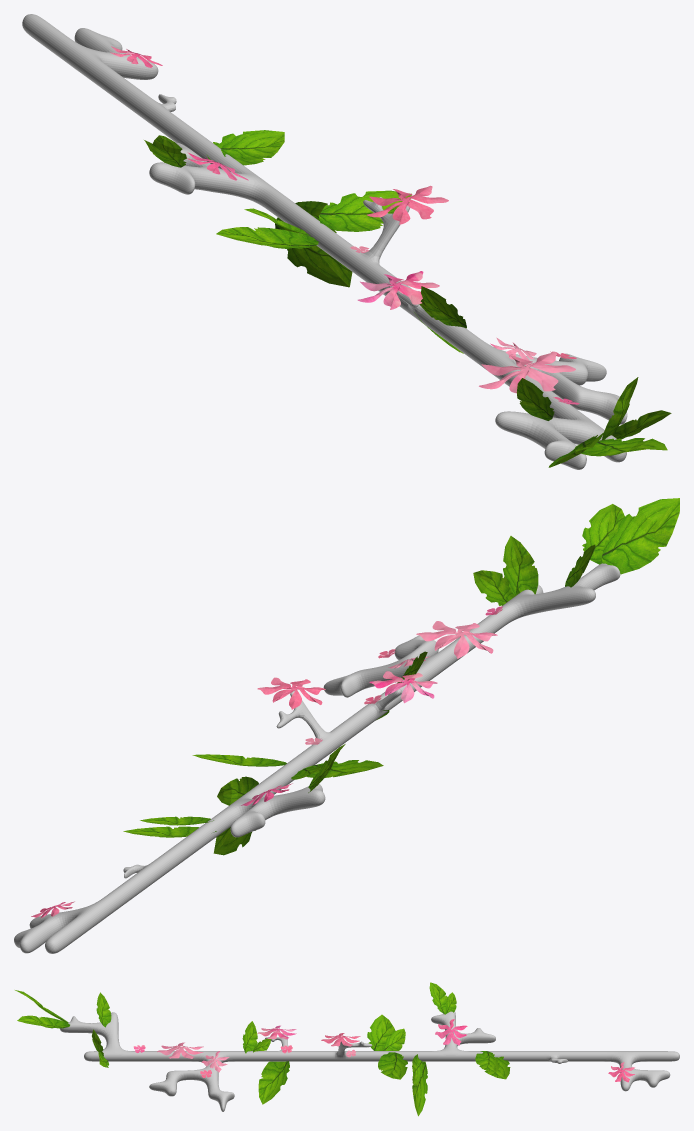
File: stickframe.fbx
3 views of the same model, one above another, from view 1: azimuth 30°, elevation 25°; view 2: azimuth 150°, elevation 25°; view 3: azimuth 270°, elevation 25° (orthographic). The views are drawn at different scales.
Parts seen in each view (by area): view 1: Cube, leaf.014, flower2.002, leaf.005, leaf, flower2, flower2.001, leaf.015, leaf.010, leaf.013, leaf.011, leaf.002 (+2 smaller); view 2: Cube, leaf.009, leaf.007, flower2.002, leaf.010, leaf.006, flower2.001, flower2, leaf.014, leaf, leaf.004; view 3: Cube, leaf.008, leaf, leaf.014, leaf.005, leaf.010, flower1, flower2.002, leaf.015, leaf.001, leaf.002, leaf.011 (+7 smaller).
Part boxes in pixels (box(x1,y1,x2,y2)): Cube: box(22, 14, 627, 469); leaf.014: box(318, 190, 411, 231); flower2.002: box(479, 351, 575, 393); leaf.005: box(275, 214, 352, 287); leaf: box(216, 227, 318, 248); flower2: box(367, 185, 448, 224); flower2.001: box(357, 271, 439, 309); leaf.015: box(221, 131, 283, 159); leaf.010: box(575, 438, 667, 456); leaf.013: box(516, 378, 554, 420); leaf.011: box(421, 286, 466, 328); leaf.002: box(152, 135, 186, 167); Cube: box(14, 563, 620, 953); leaf.009: box(601, 498, 679, 574); leaf.007: box(503, 536, 538, 595); flower2.002: box(416, 621, 497, 658); leaf.010: box(582, 504, 624, 564); leaf.006: box(473, 570, 519, 605); flower2.001: box(369, 671, 437, 703); flower2: box(257, 677, 325, 709); leaf.014: box(192, 754, 286, 766); leaf: box(303, 760, 383, 777); leaf.004: box(217, 776, 258, 805); Cube: box(60, 1011, 679, 1111); leaf.008: box(258, 1061, 289, 1104); leaf: box(367, 1014, 395, 1050); leaf.014: box(378, 1052, 407, 1079); leaf.005: box(412, 1061, 427, 1116); leaf.010: box(17, 1015, 69, 1028); flower1: box(435, 1019, 467, 1045); flower2.002: box(157, 1042, 203, 1058); leaf.015: box(475, 1051, 499, 1072); leaf.001: box(383, 1028, 405, 1050); leaf.002: box(429, 982, 447, 1014); leaf.011: box(242, 1021, 257, 1053).
Bounding box in the file's own units: 456 × 342 × 2237.
